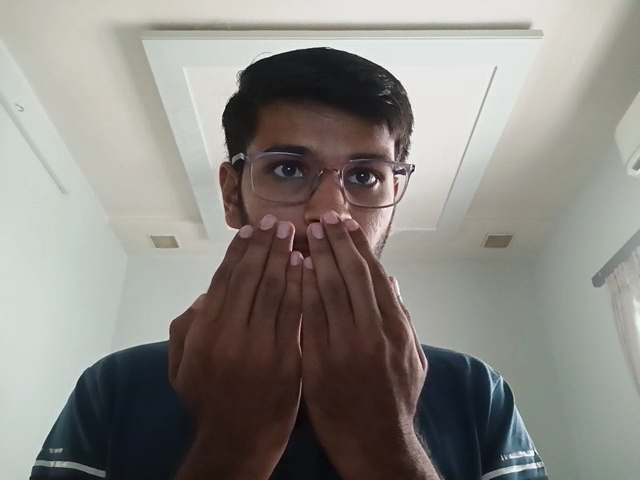Thank You: (156, 209, 448, 456)
